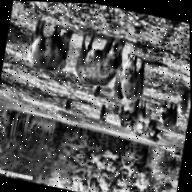boar: (72, 29, 127, 93), (24, 18, 75, 76)
